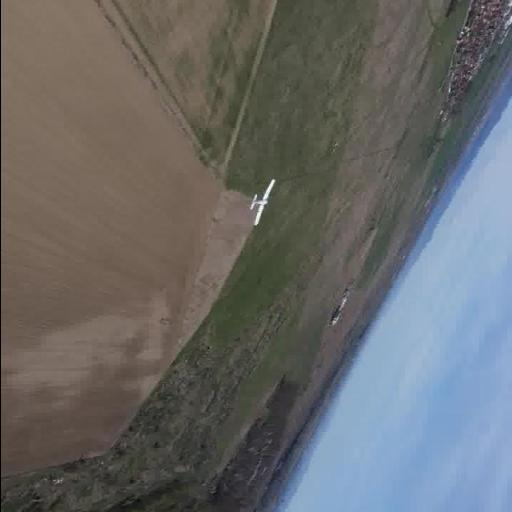uav: (240, 174, 280, 228)
